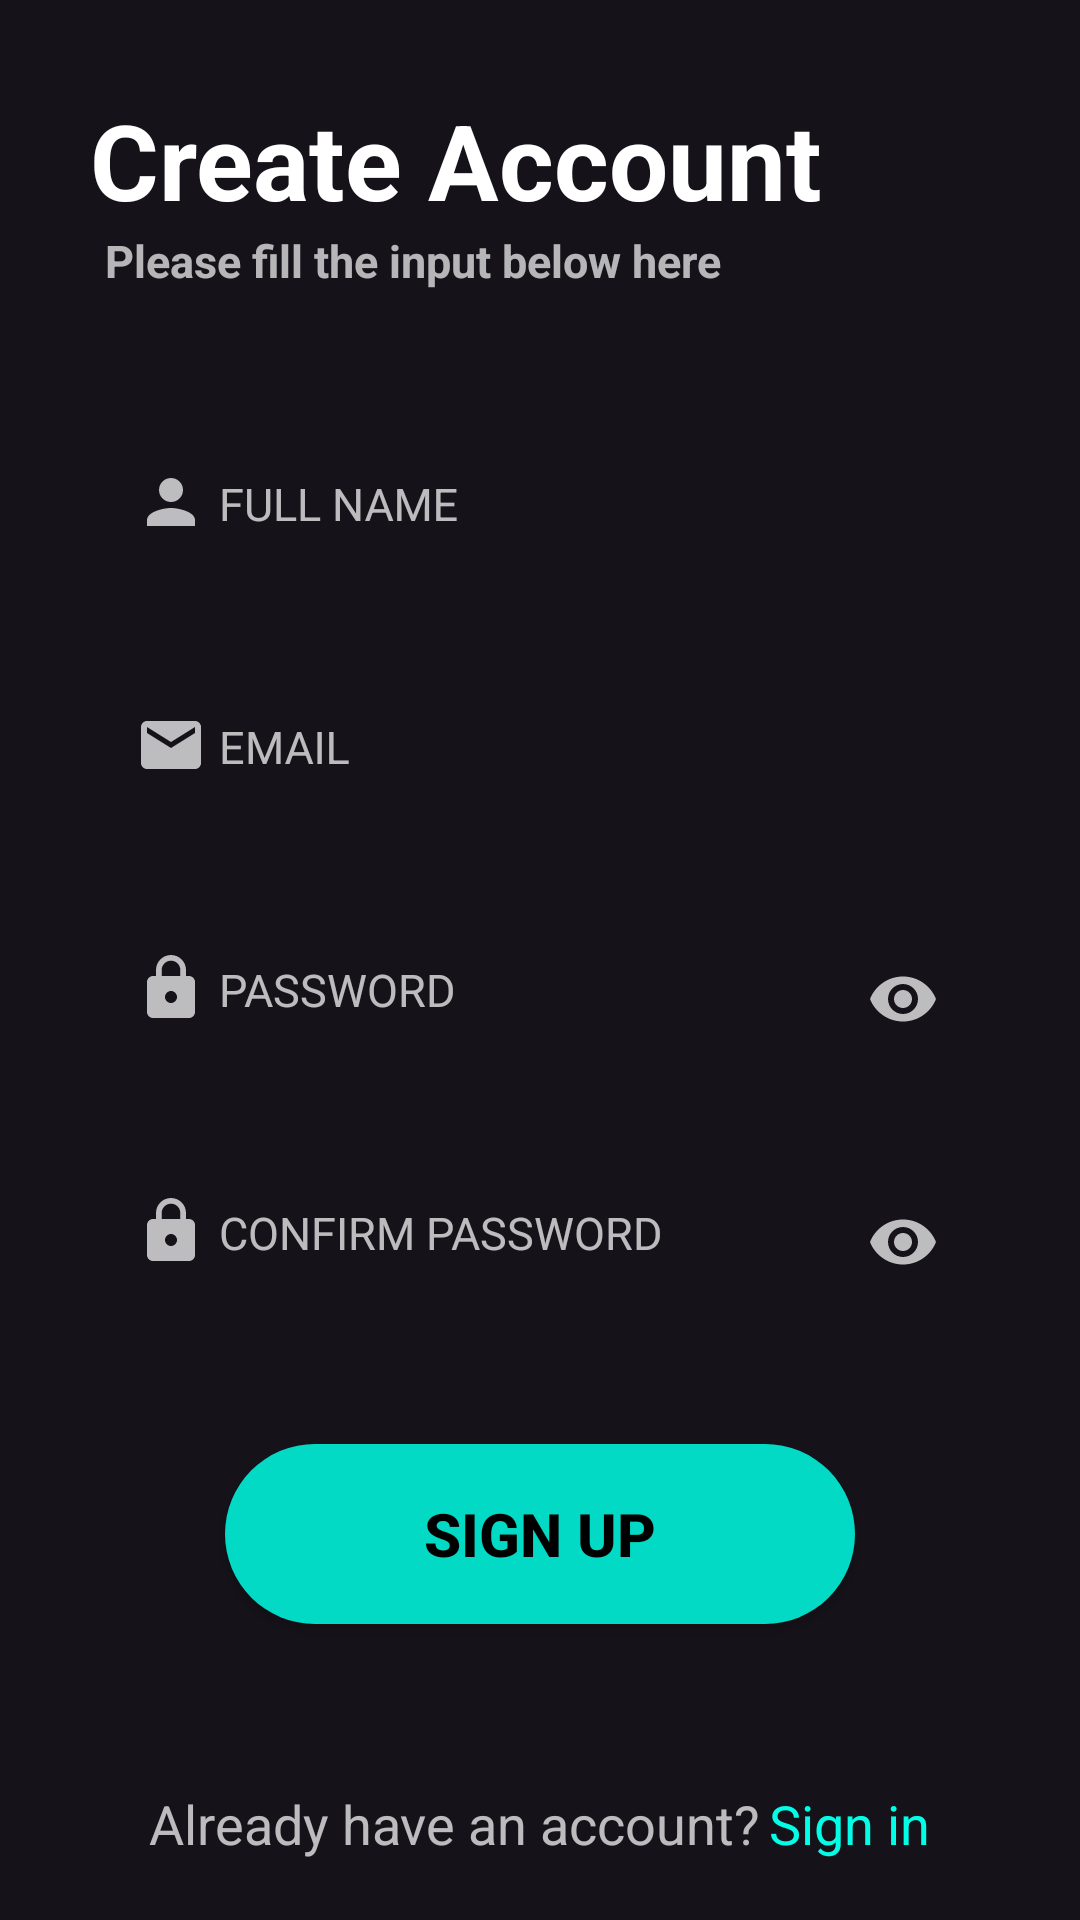

Point at icon controls on the screen. Image size 1080×1920, points as point (x, y).
lock: point (171, 986), point (171, 1229)
person: point (171, 502)
